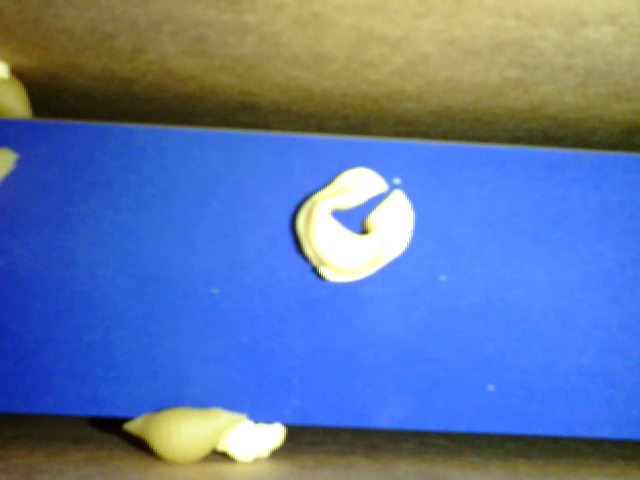shell: (123, 401, 244, 464)
tortellini: (292, 165, 415, 286)
